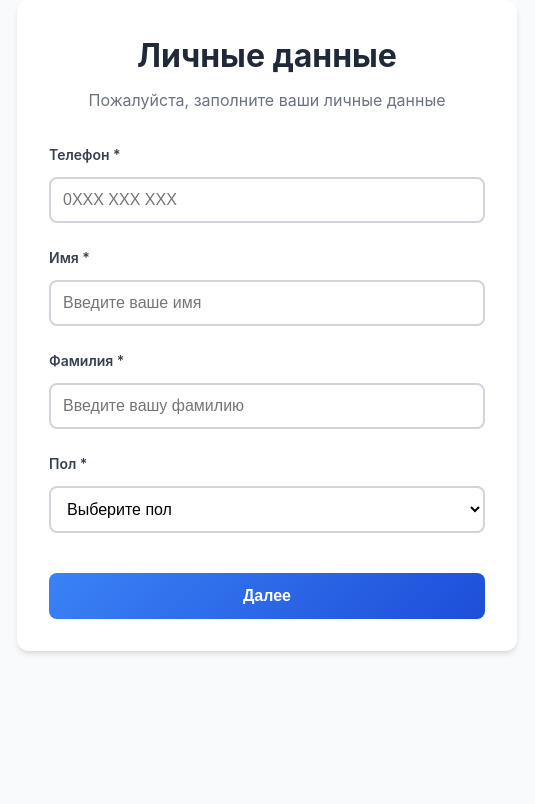
Test case: PersonalDataForm › должен показывать ошибку при неверном формате телефона
Type "123456789" into the field labelled "Телефон *". click: coordinates (267, 200)
box: x1=49 y1=177 x2=485 y2=223
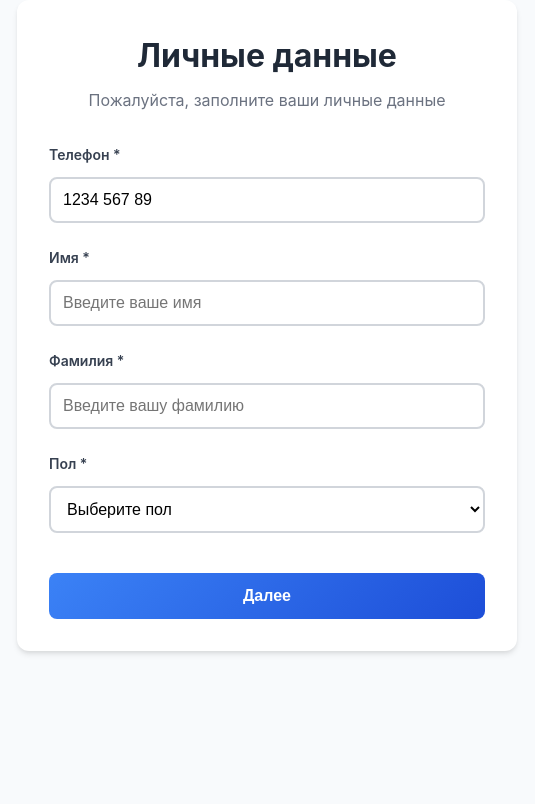
Click the button "Далее". click: coordinates (267, 596)
box: x1=49 y1=573 x2=485 y2=619
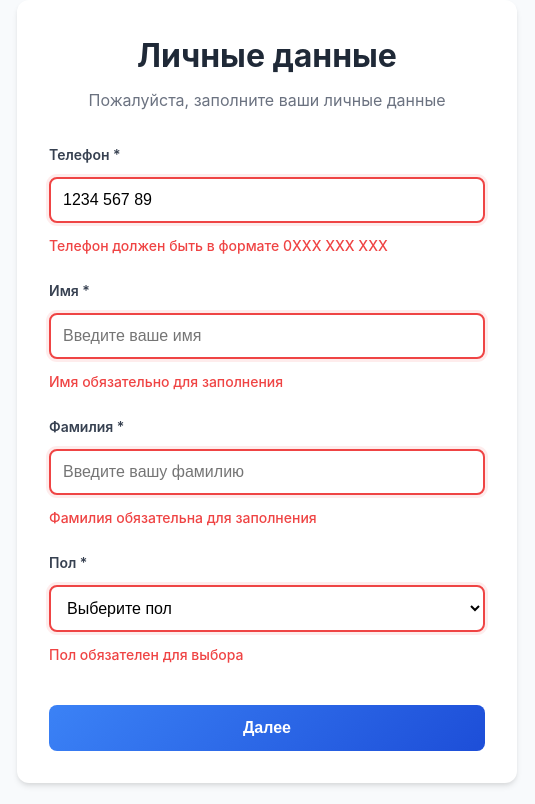
Expected: the text "Телефон должен быть в формате 0XXX XXX XXX" is shown, x1=49 y1=237 x2=388 y2=254
